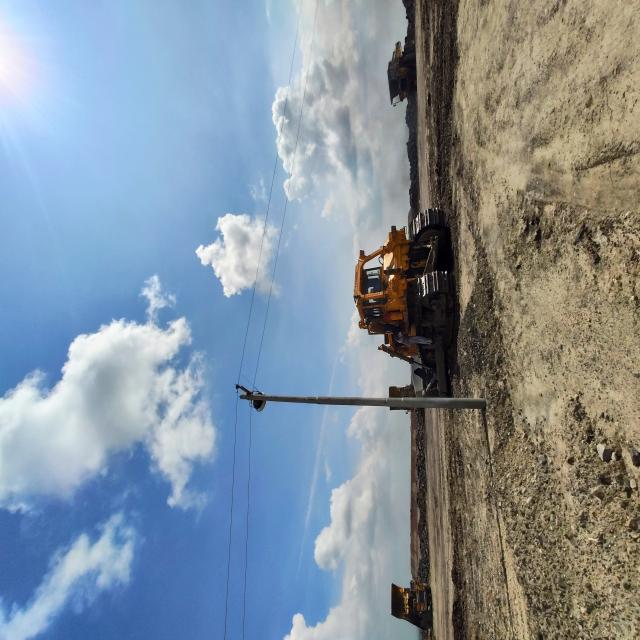buldozerpayloadergrader: (184, 479, 317, 608)
dump_truck: (399, 524, 464, 566), (9, 526, 43, 582)
